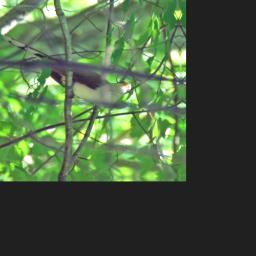Cuckoo: (0, 25, 134, 110)
